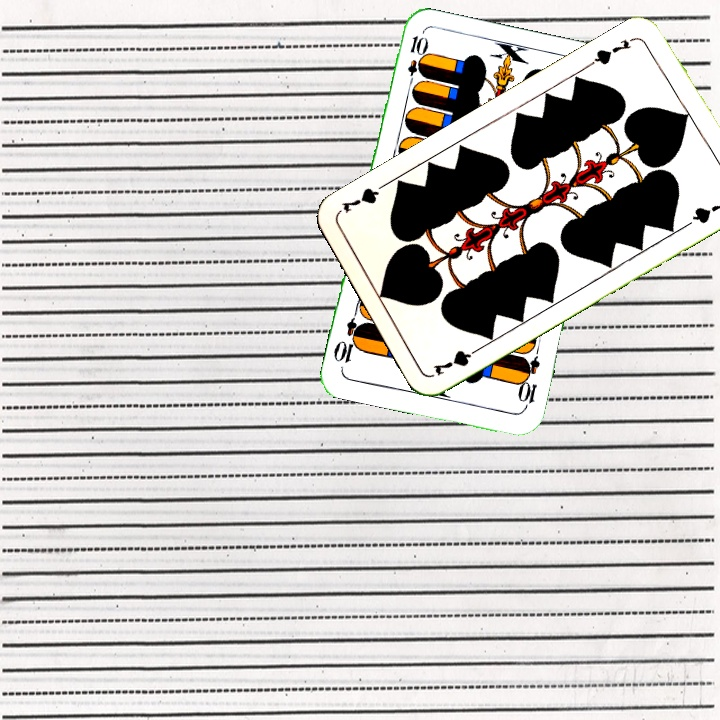E10: (513, 353, 543, 412), (403, 32, 428, 91)
G7: (428, 342, 485, 379), (586, 33, 639, 69)
